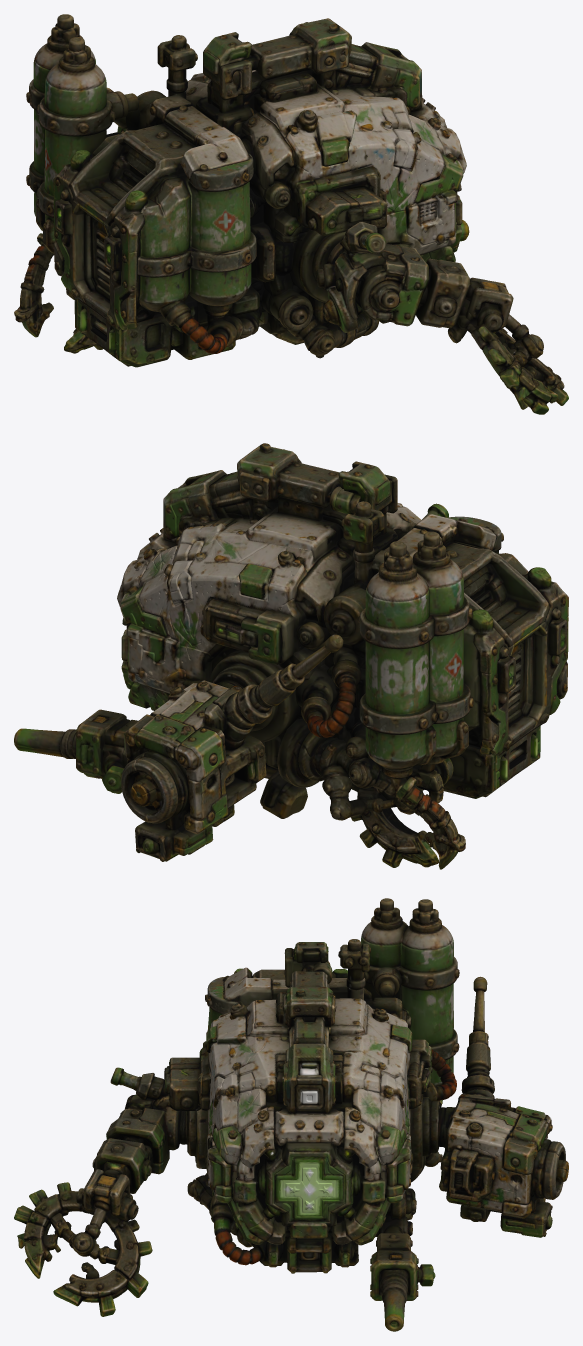
The model's file is welder_t2.glb.
3 views of the same model, one above another, from view 1: azimuth 30°, elevation 25°; view 2: azimuth 150°, elevation 25°; view 3: azimuth 270°, elevation 25° (orthographic). The views are drawn at different scales.
Parts seen in each view (by area): view 1: tripo_node_25994b9d-e483-41d9-9f73-e3907963bf10; view 2: tripo_node_25994b9d-e483-41d9-9f73-e3907963bf10; view 3: tripo_node_25994b9d-e483-41d9-9f73-e3907963bf10.
Part boxes in pixels (left/top/right/bottom): tripo_node_25994b9d-e483-41d9-9f73-e3907963bf10: left=14, top=14, right=568, bottom=414; tripo_node_25994b9d-e483-41d9-9f73-e3907963bf10: left=14, top=443, right=568, bottom=869; tripo_node_25994b9d-e483-41d9-9f73-e3907963bf10: left=14, top=898, right=568, bottom=1331.
Size of the model in its own units: 0.7944 by 0.561 by 0.9801.
Materials: 1 (1 with a texture image).
